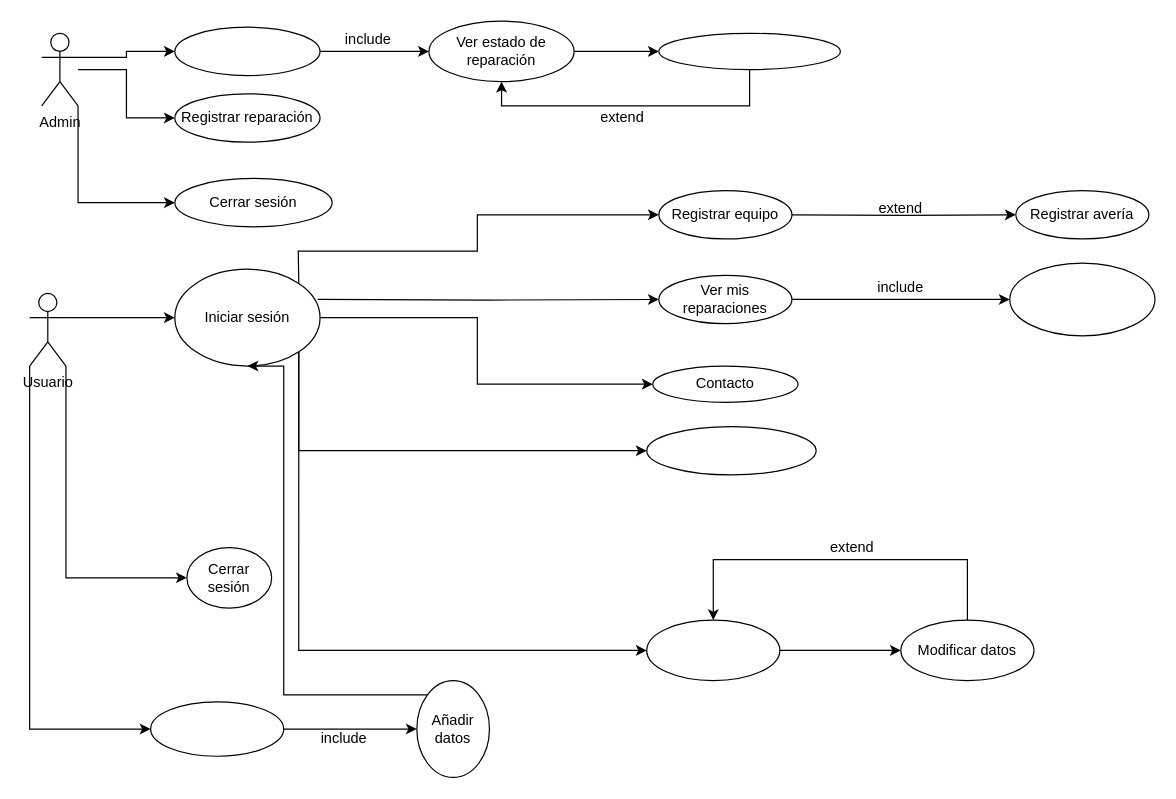
Image size: 1176x799. Some labels were removed from this diagram. The shapes that lost their labels are listed below. From the top down, each one's centre as x and y in pixels, then its label:
(247,51): Ver todas mis reparaciones
(749,51): Modificar estado de la reparación
(1082,299): Consultar estado de la reparación
(731,450): Ver servicios
(713,650): Ver mi perfil
(216,728): Registrarse
